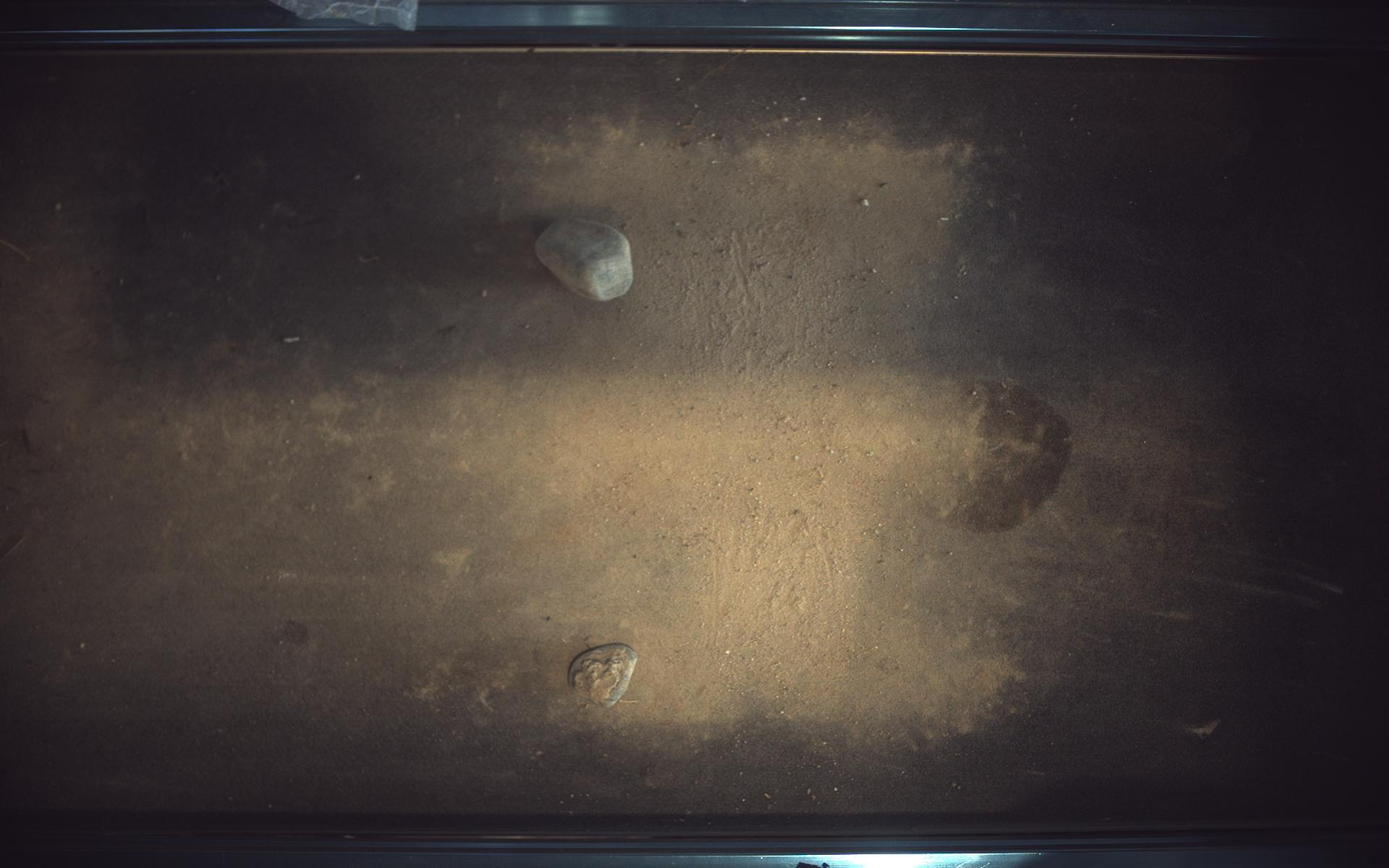stone: (536, 216, 633, 300), (569, 644, 638, 708)
